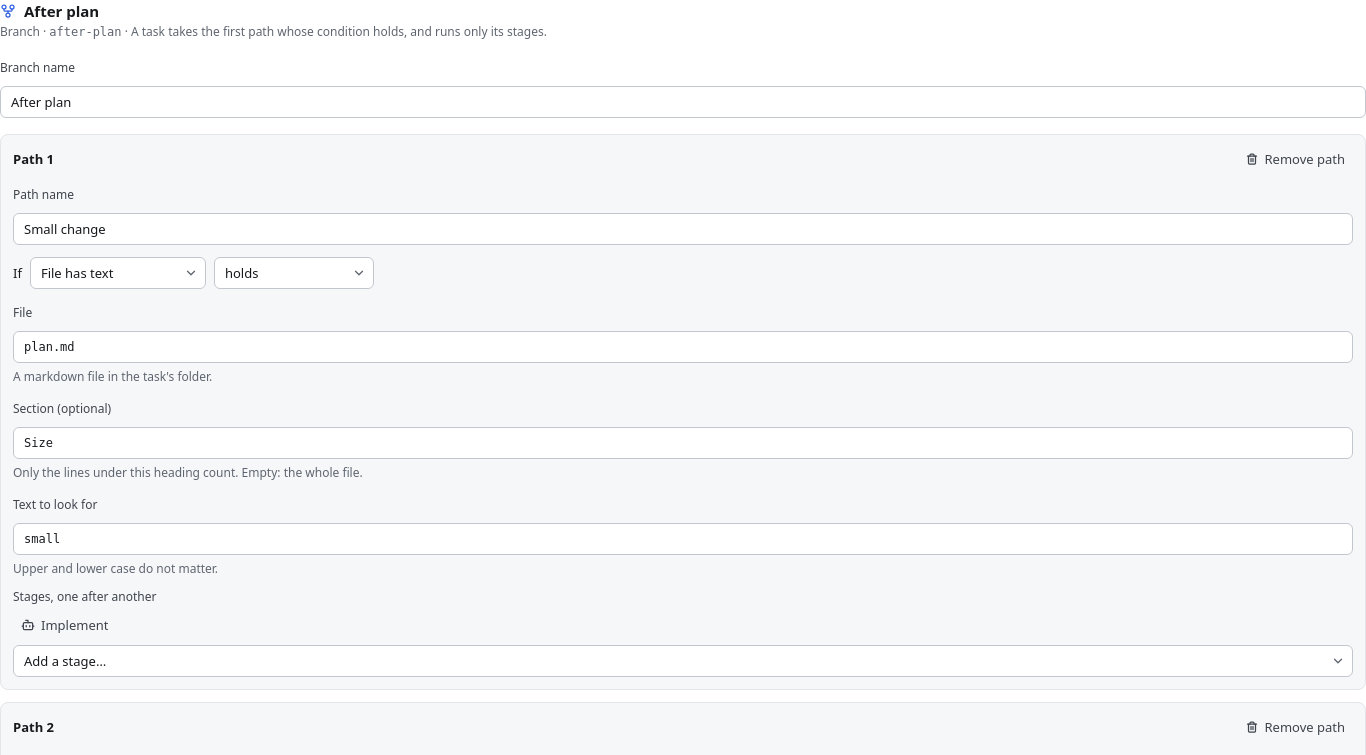
Test: BranchDetails › removes a path after asking, because its stages go with it
The width and height of the screenshot is (1366, 755).
What coordinates should you click on to do the following:
click the button with aria-label "Remove Path 1"
I would click on:
 (1296, 159)
Its box is [1238,147,1353,171].
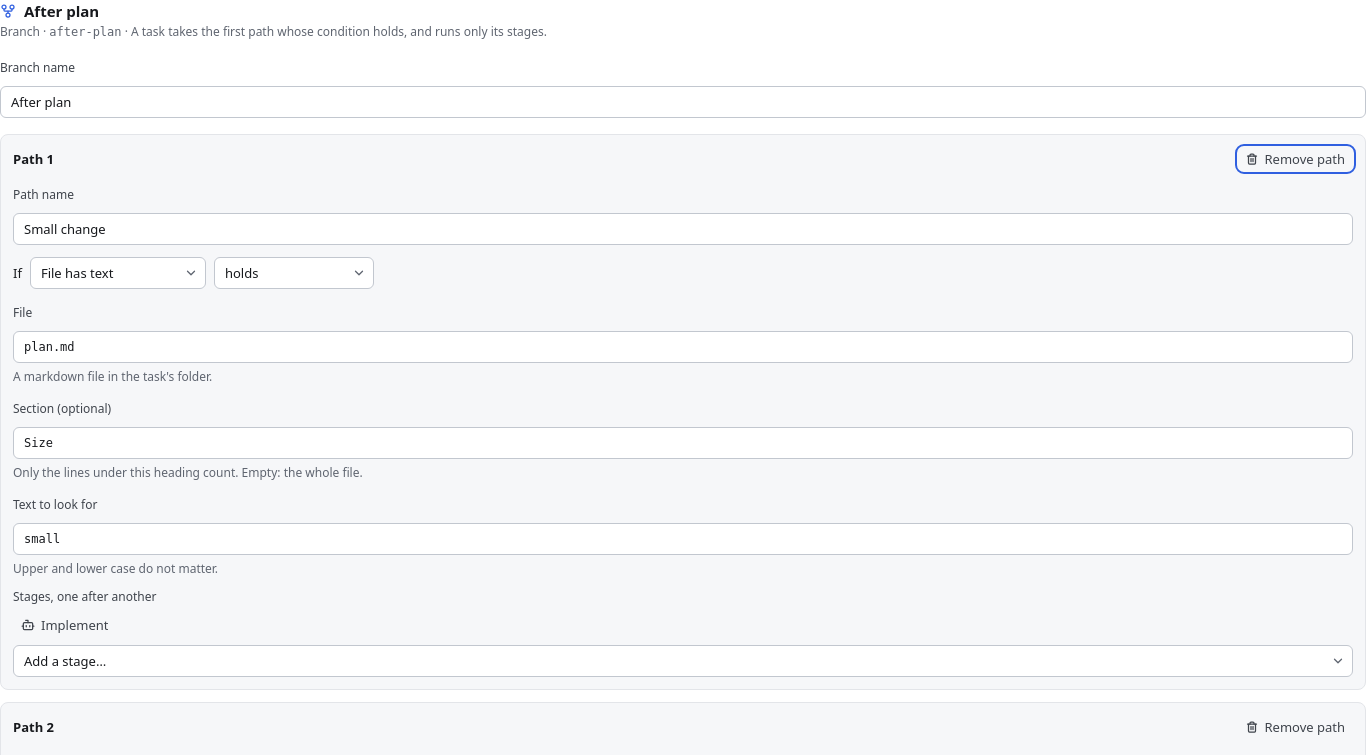
What coordinates should you click on to do the following:
click the button with aria-label "Remove Path 1"
I would click on:
 (1296, 159)
Its box is [1238,147,1353,171].
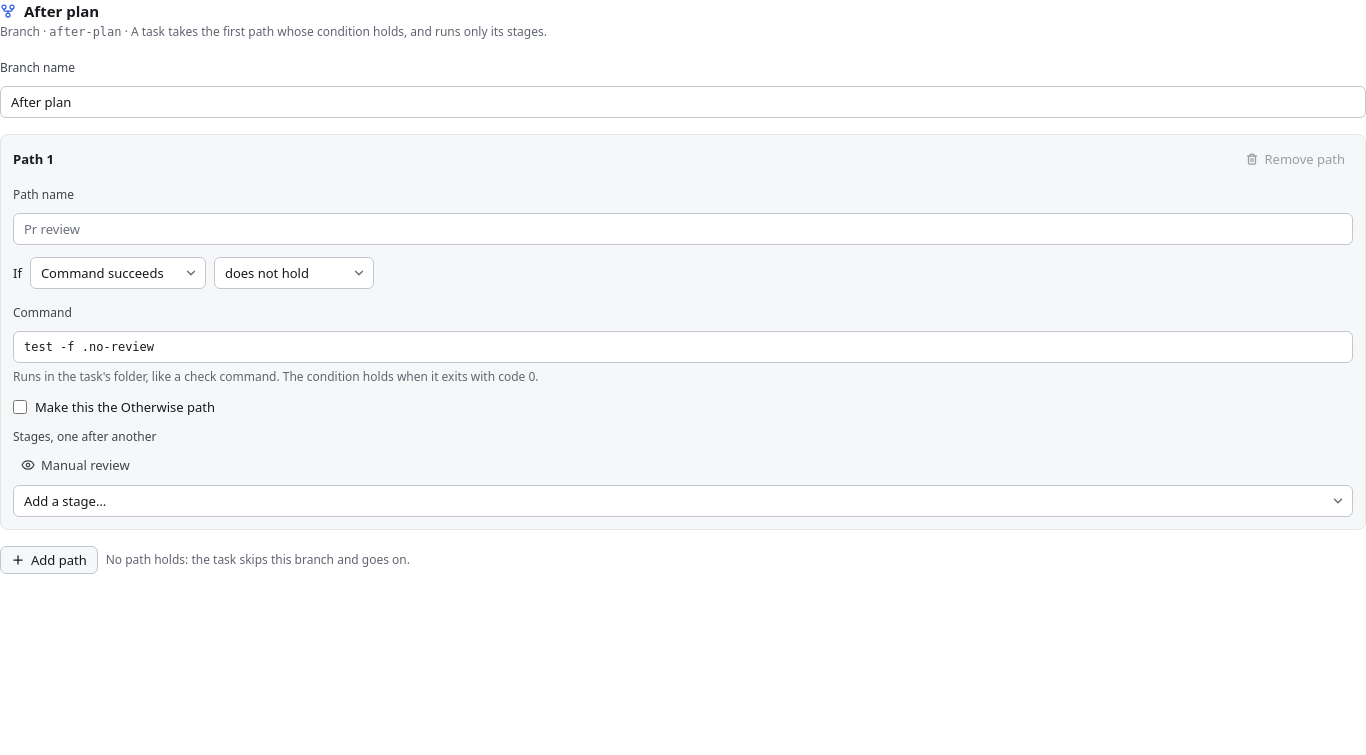
Check: the number of elements "Path 1" is 1, box [0,134,1365,530]
